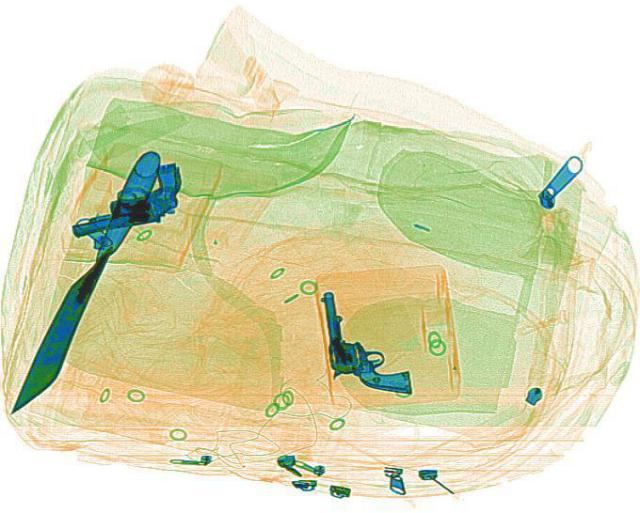Gun: (55, 161, 197, 237), (318, 286, 412, 397)
Knife: (3, 145, 166, 416)
